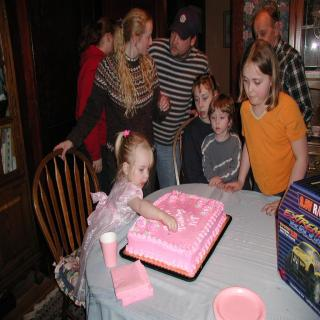Cake: (125, 190, 228, 276)
